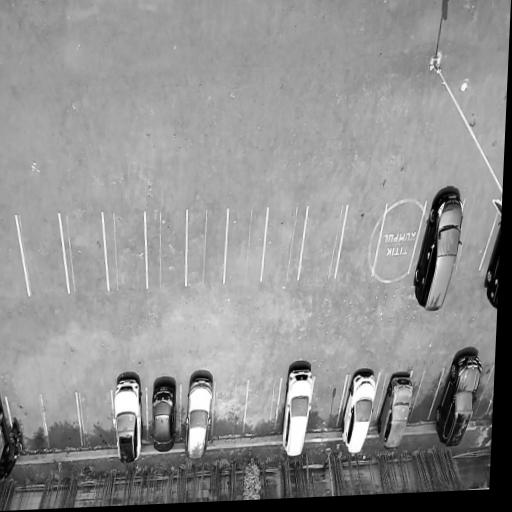Car: (410, 192, 463, 314), (427, 353, 490, 448), (335, 370, 383, 459), (279, 361, 316, 459), (112, 356, 143, 472), (372, 374, 417, 452), (182, 376, 215, 463), (150, 379, 176, 457), (481, 216, 501, 316), (0, 395, 13, 485)
Space Available: (17, 213, 68, 298), (372, 200, 427, 277), (61, 213, 107, 294), (456, 195, 502, 272), (336, 207, 385, 279), (299, 208, 347, 281), (102, 215, 145, 295), (186, 207, 228, 288), (261, 207, 306, 282), (144, 214, 187, 290), (225, 209, 266, 285), (0, 215, 29, 308), (77, 391, 116, 458), (41, 391, 81, 453), (241, 379, 282, 438), (307, 375, 348, 433), (406, 369, 443, 430), (213, 381, 246, 438), (470, 390, 493, 421)
